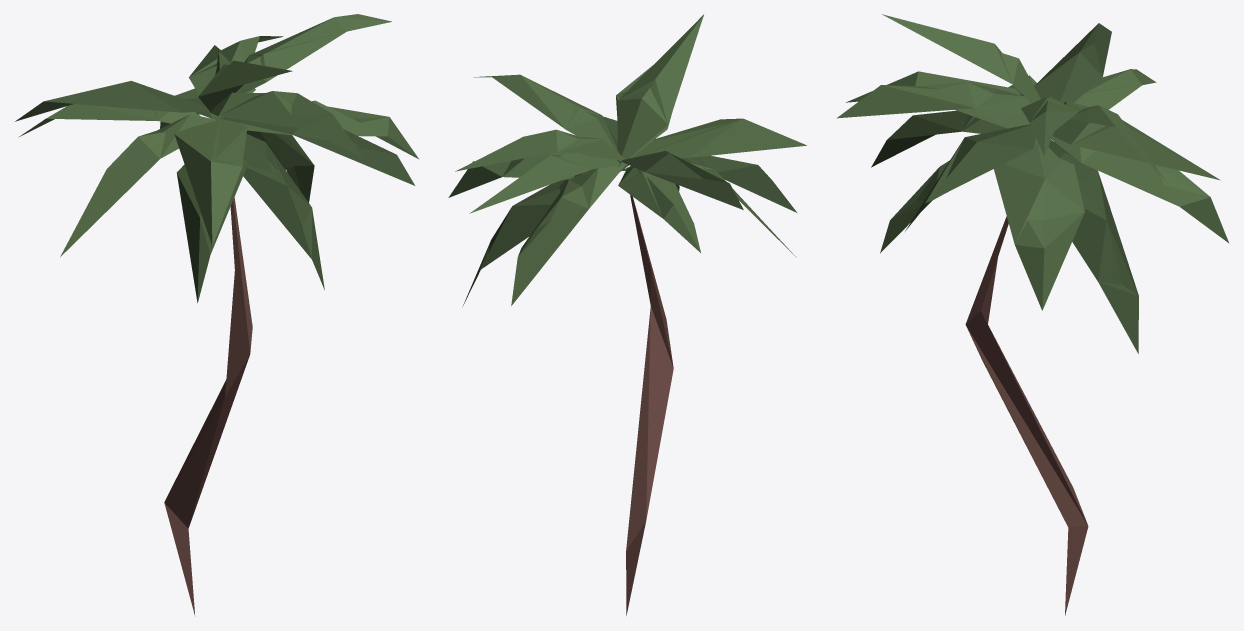
Rendered from PalmTree_1.lod3.glb.
3 renders of one model, left to right at view 1: azimuth 30°, elevation 25°; view 2: azimuth 150°, elevation 25°; view 3: azimuth 270°, elevation 25°, orthographic. The views are drawn at different scales.
Visible parts, largest first — view 1: PalmTree_1; view 2: PalmTree_1; view 3: PalmTree_1.
Boxes of the visible parts, x1,y1,x2,y2 form: PalmTree_1: [15, 14, 419, 616]; PalmTree_1: [448, 14, 806, 615]; PalmTree_1: [837, 14, 1229, 615].
Size of the model in its own units: 2.88 by 4.46 by 2.63.
